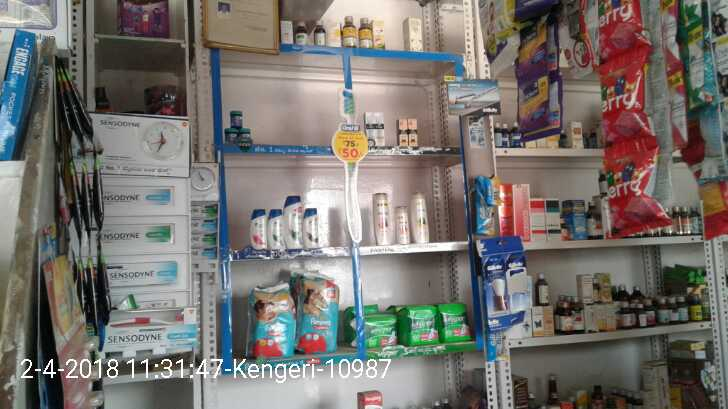vicks: (224, 128, 238, 145), (238, 128, 250, 145), (230, 110, 241, 127)
